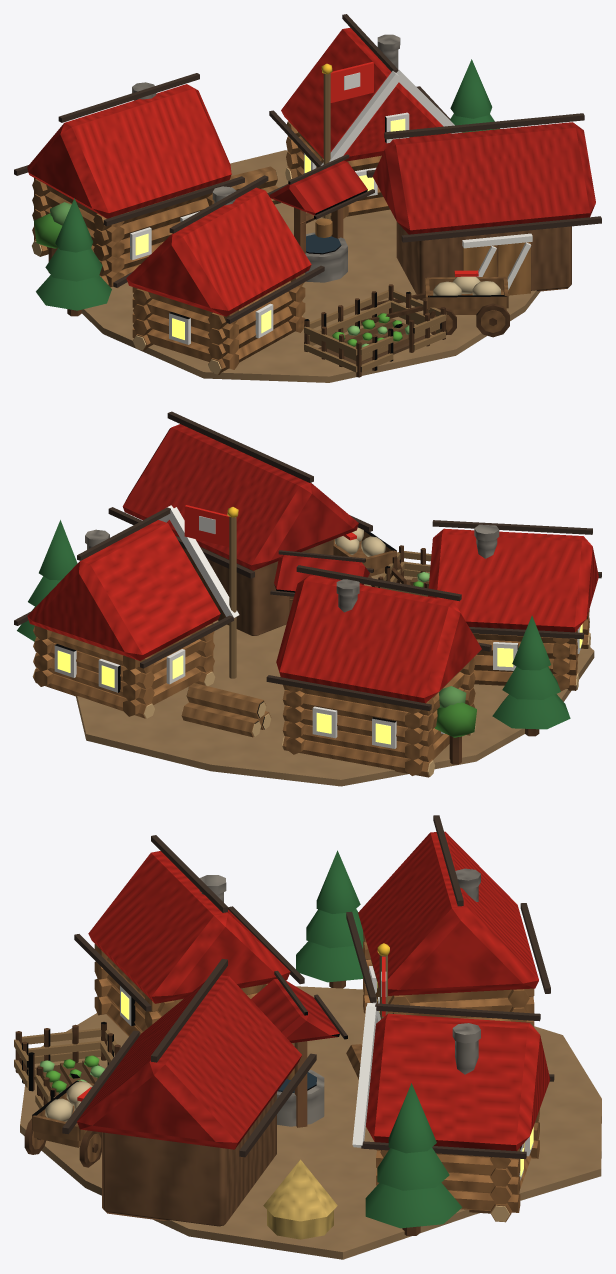
File: city_dl2_red.glb
3 views of the same model, one above another, from view 1: azimuth 30°, elevation 25°; view 2: azimuth 150°, elevation 25°; view 3: azimuth 270°, elevation 25° (orthographic). The views are drawn at different scales.
Visible parts, largest first — view 1: city_dl2_red; view 2: city_dl2_red; view 3: city_dl2_red.
Part boxes in pixels (bbox=[...]): city_dl2_red: bbox=[14, 14, 601, 382]; city_dl2_red: bbox=[14, 411, 601, 786]; city_dl2_red: bbox=[14, 815, 601, 1259].
Size of the model in its own units: 1.47 by 0.486 by 1.27.
Materials: 2 (1 with a texture image).
